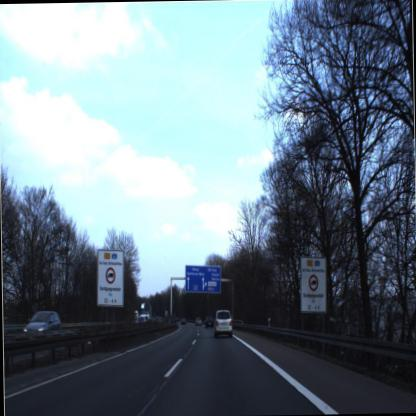prohibitory: (305, 274, 319, 294), (104, 268, 116, 284)
